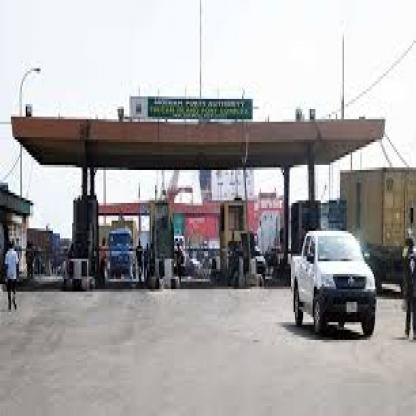car: (285, 213, 383, 356), (102, 223, 137, 278)
